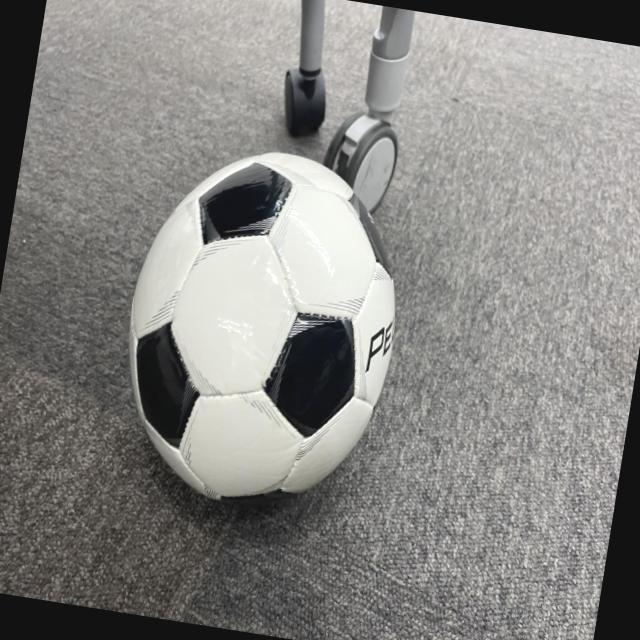Soccer Ball: (106, 135, 422, 530)
